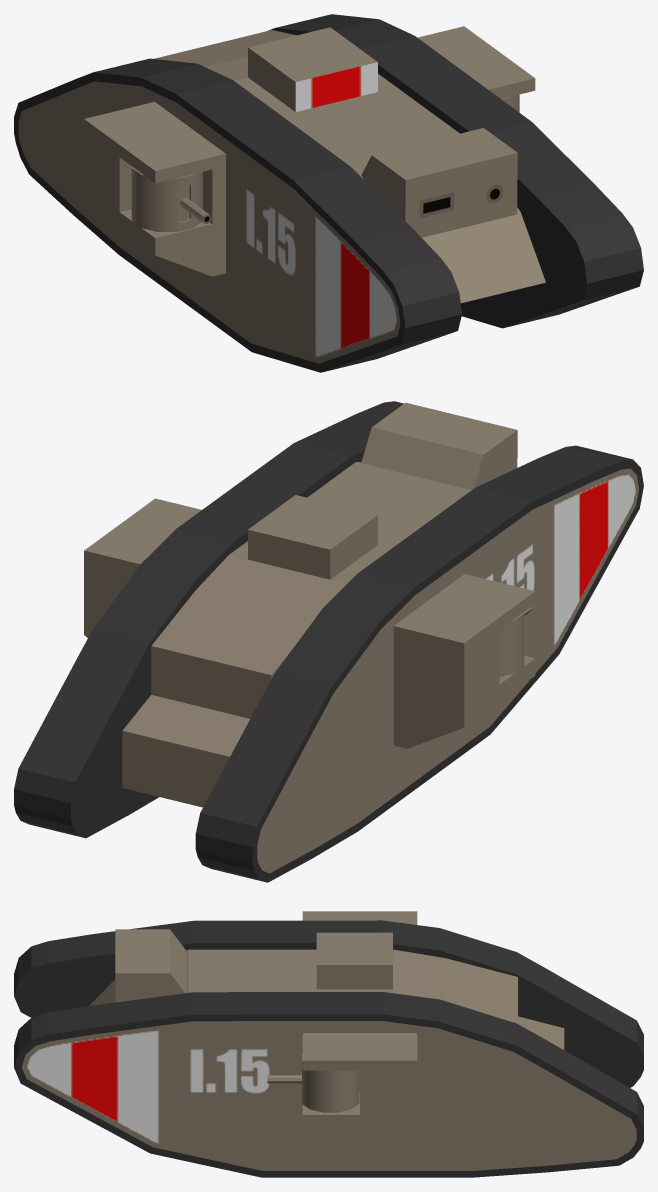
Rendered from UK_Tank.fbx.
3 views of the same model, one above another, from view 1: azimuth 30°, elevation 25°; view 2: azimuth 150°, elevation 25°; view 3: azimuth 270°, elevation 25° (orthographic). The views are drawn at different scales.
Visible parts, largest first — view 1: Shassis, Cube.002, Center, Cube, Cube.001, Gun.001; view 2: Shassis, Center, Cube.002, Cube, Cube.001, Gun.001; view 3: Shassis, Center, Cube.002, Cube, Cube.001, Gun.
Part boxes in pixels (<box>): Shassis: <box>14,14,643,372</box>; Cube.002: <box>84,26,535,276</box>; Center: <box>154,30,545,303</box>; Cube: <box>361,128,517,237</box>; Cube.001: <box>248,27,377,111</box>; Gun.001: <box>131,166,211,231</box>; Shassis: <box>14,401,643,882</box>; Center: <box>122,462,471,807</box>; Cube.002: <box>84,498,535,748</box>; Cube: <box>361,402,517,489</box>; Cube.001: <box>248,495,377,579</box>; Gun.001: <box>499,607,531,676</box>; Shassis: <box>14,920,643,1177</box>; Center: <box>89,949,564,1049</box>; Cube.002: <box>302,911,417,1134</box>; Cube: <box>115,929,186,1002</box>; Cube.001: <box>316,932,392,989</box>; Gun: <box>267,1054,359,1112</box>.
Bounding box in the file's own units: 482 × 272 × 856.
